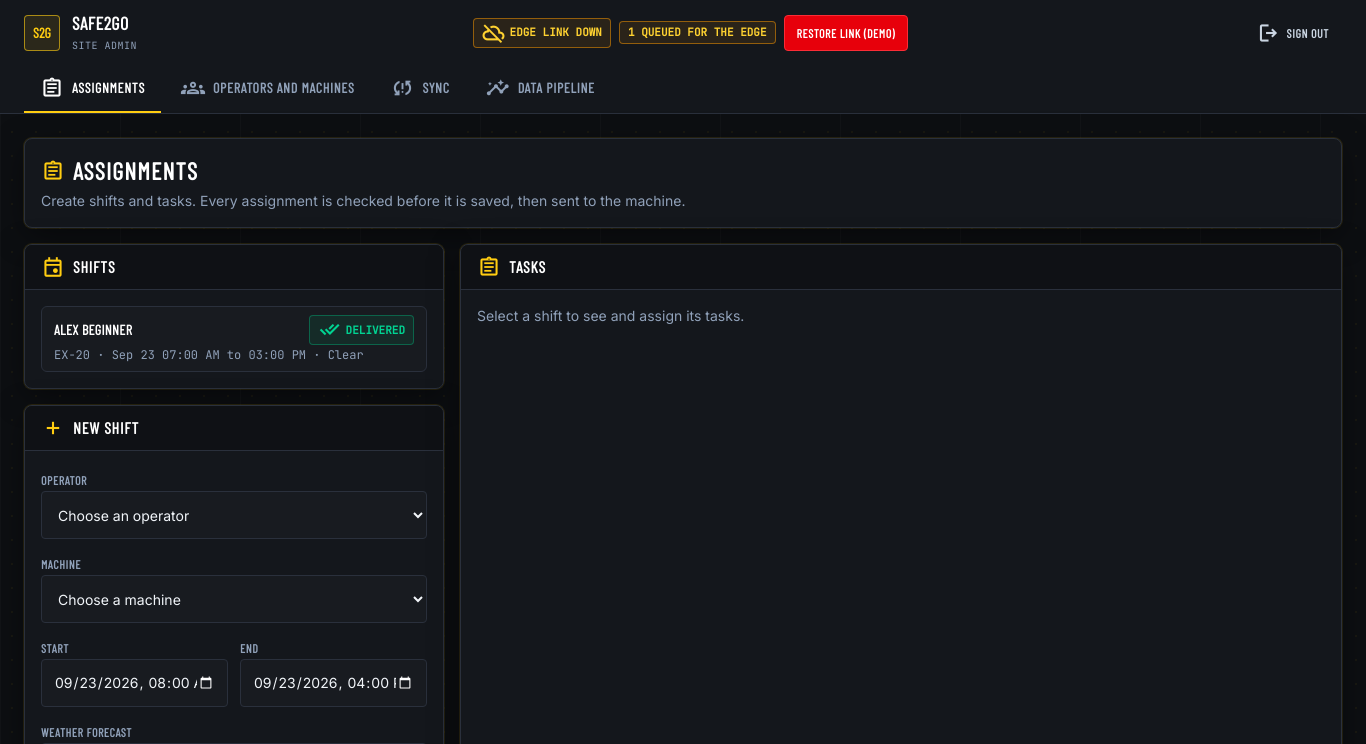
Scenario: Admin assignments › shows the shift-end warning after a task is saved
Click the button "Alex Beginner" at coordinates (93, 330), box [41,306,427,372]
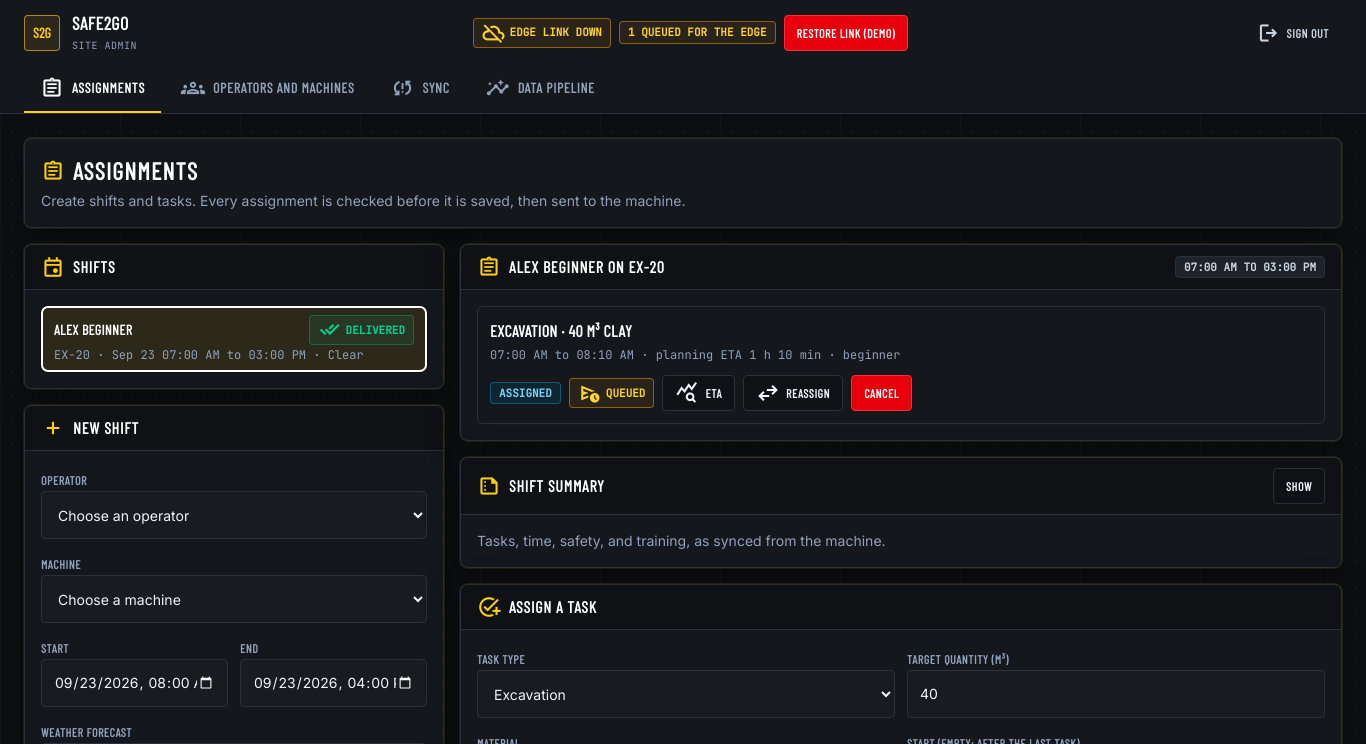
Select "Material loading" in the dropdown labelled "Task type" at coordinates (686, 694), box [477,670,895,718]
(page scrolled)
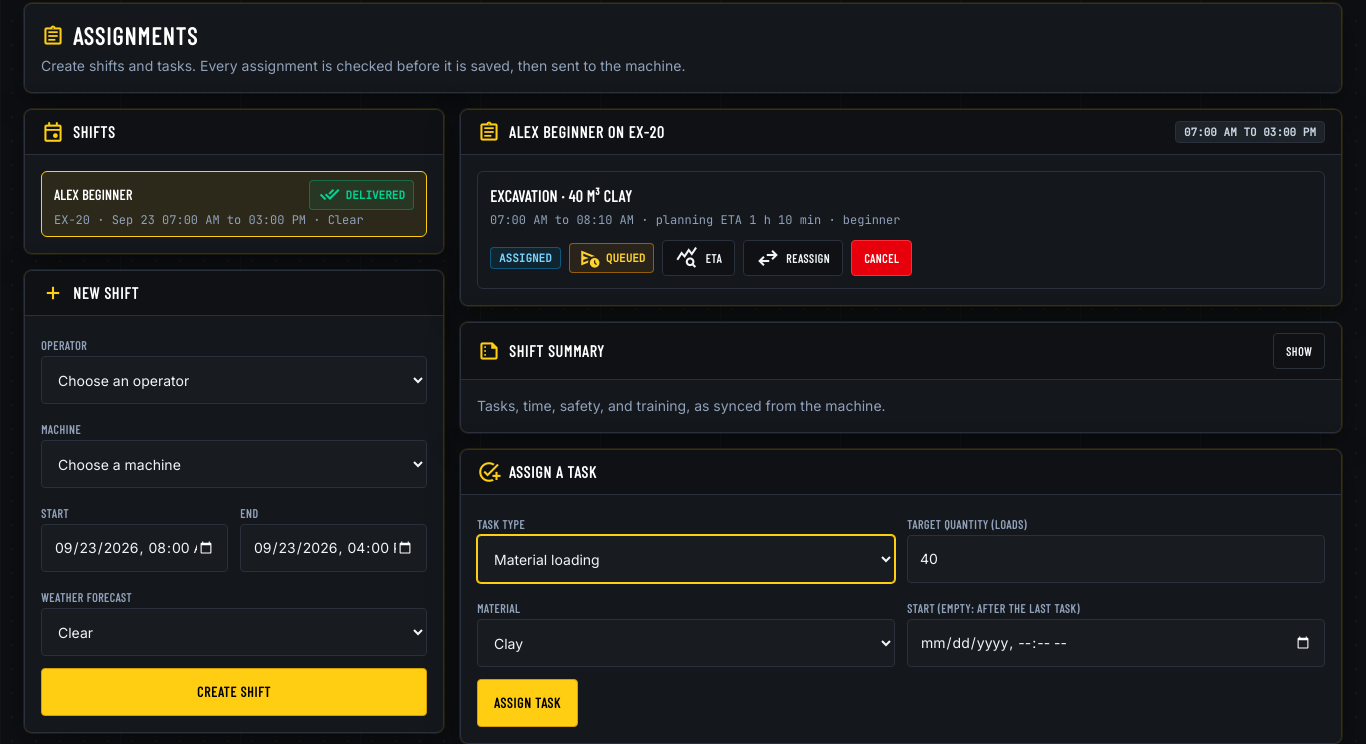
Click the button "Assign task" at coordinates (527, 703), box [477,679,578,727]
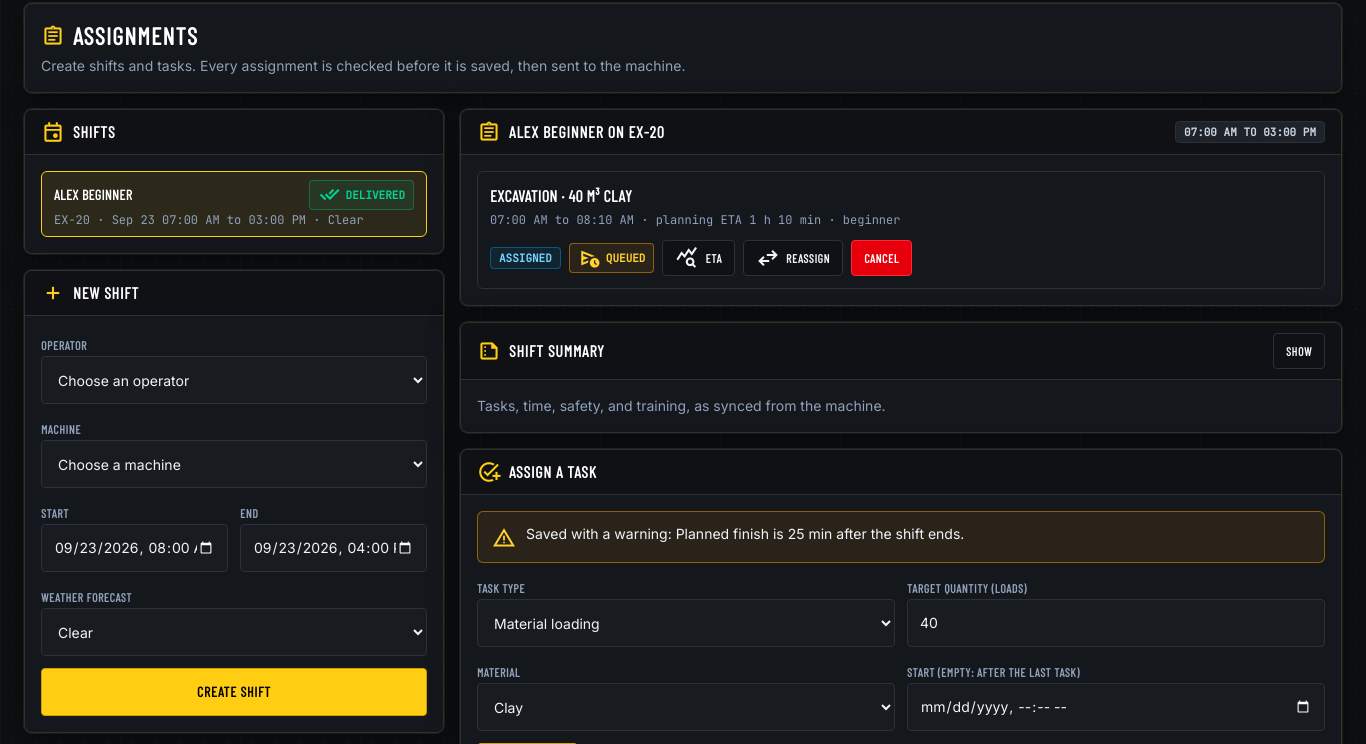
Expected: the text "Planned finish is 25 min after the shift ends" is shown, [676,525,964,542]
